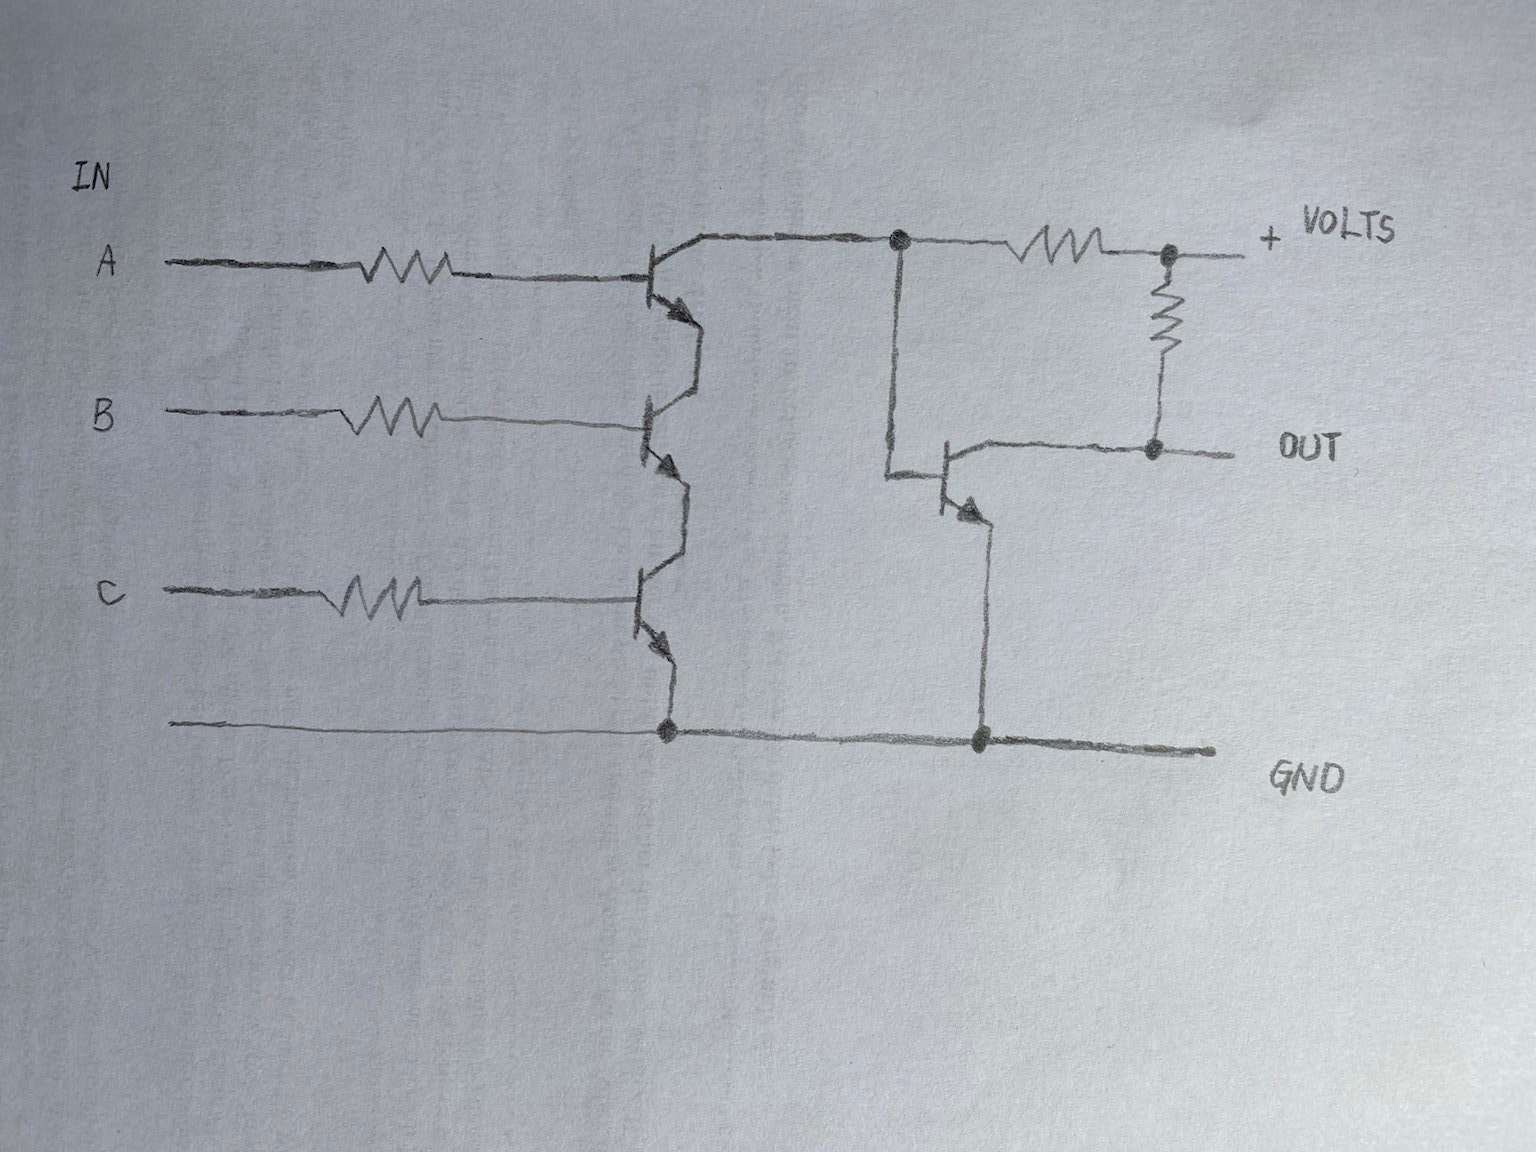junction: (963, 712, 1003, 768), (648, 710, 691, 751), (1150, 229, 1189, 272), (880, 215, 918, 260), (1134, 427, 1173, 466)
resistor: (328, 379, 460, 447), (342, 227, 463, 300), (308, 564, 439, 630), (989, 207, 1118, 275), (1141, 278, 1201, 371)
terminal: (1201, 738, 1228, 764), (1219, 444, 1245, 466), (158, 401, 179, 421), (157, 580, 177, 601), (162, 713, 180, 735), (157, 253, 177, 272), (1231, 248, 1251, 266)
text: (1260, 741, 1353, 811), (1300, 192, 1399, 252), (1272, 408, 1355, 476), (59, 139, 128, 203), (83, 232, 135, 298), (87, 561, 132, 624), (79, 386, 126, 437), (1251, 214, 1290, 264)
transistor: (616, 540, 708, 676), (922, 431, 1029, 545), (637, 218, 731, 344), (630, 378, 716, 495)
